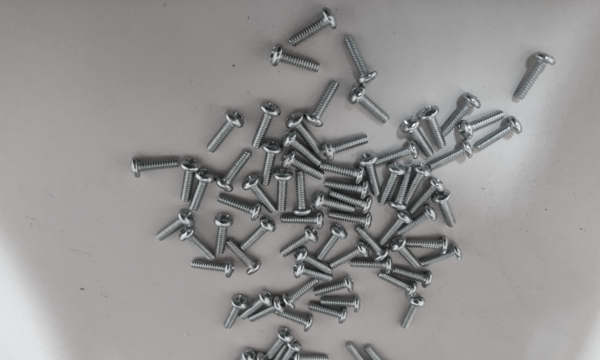shortscrew: (515, 52, 556, 100), (289, 8, 337, 48), (442, 92, 482, 136), (344, 35, 378, 86), (476, 115, 524, 150), (305, 80, 340, 128), (348, 85, 390, 124), (207, 110, 244, 153), (286, 112, 323, 154), (216, 150, 252, 193), (252, 101, 282, 149), (270, 45, 320, 73), (400, 117, 434, 158), (283, 131, 322, 166), (458, 111, 505, 140), (243, 175, 277, 215), (155, 209, 196, 242), (409, 178, 446, 214), (239, 217, 277, 252), (323, 134, 370, 162), (226, 239, 262, 275), (282, 151, 325, 181), (375, 139, 421, 167), (418, 104, 446, 149), (179, 226, 215, 261), (404, 164, 433, 206), (189, 168, 216, 213), (379, 161, 406, 206), (388, 165, 414, 211), (430, 141, 474, 168), (380, 211, 413, 247), (356, 226, 389, 262), (280, 227, 318, 258), (217, 195, 262, 221), (419, 242, 462, 269), (283, 277, 319, 309), (397, 207, 438, 235), (377, 272, 418, 300), (330, 241, 370, 269), (329, 189, 372, 215), (248, 295, 287, 323), (295, 247, 334, 275), (319, 161, 364, 185), (318, 225, 348, 261), (131, 156, 179, 178), (312, 190, 356, 214), (240, 290, 275, 320), (359, 152, 382, 197), (262, 140, 283, 187), (308, 301, 349, 325), (432, 190, 457, 229), (180, 158, 202, 202), (273, 169, 295, 213), (224, 295, 249, 331), (324, 180, 369, 200), (313, 275, 355, 296), (214, 214, 235, 256), (328, 211, 372, 231), (293, 172, 312, 217), (392, 268, 434, 288), (405, 236, 449, 255), (267, 328, 293, 360), (402, 293, 425, 329), (190, 260, 235, 278), (281, 212, 325, 230), (321, 294, 361, 313), (293, 264, 333, 283), (351, 259, 392, 275), (346, 342, 375, 360), (365, 345, 394, 360), (227, 348, 256, 360), (237, 352, 271, 360), (291, 353, 329, 360)
